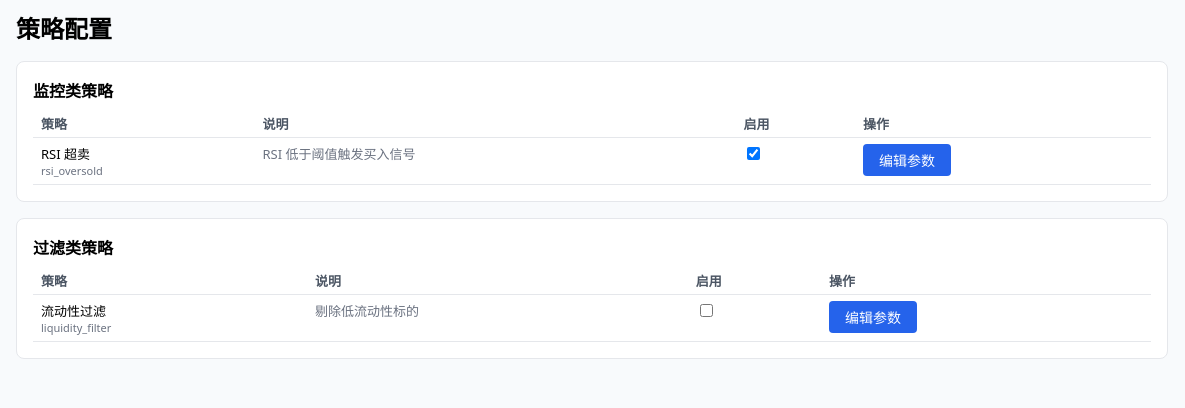
Test: T148 策略配置页（/strategy/config） › 启用开关切换 → PUT /toggle 且列表状态更新
The width and height of the screenshot is (1185, 408).
Expected: the text "流动性过滤" is shown, [41,302,106,320]
Step 1. Click the checkbox named "流动性过滤 启用" → {"x": 706, "y": 311}, box [700,304,713,317]
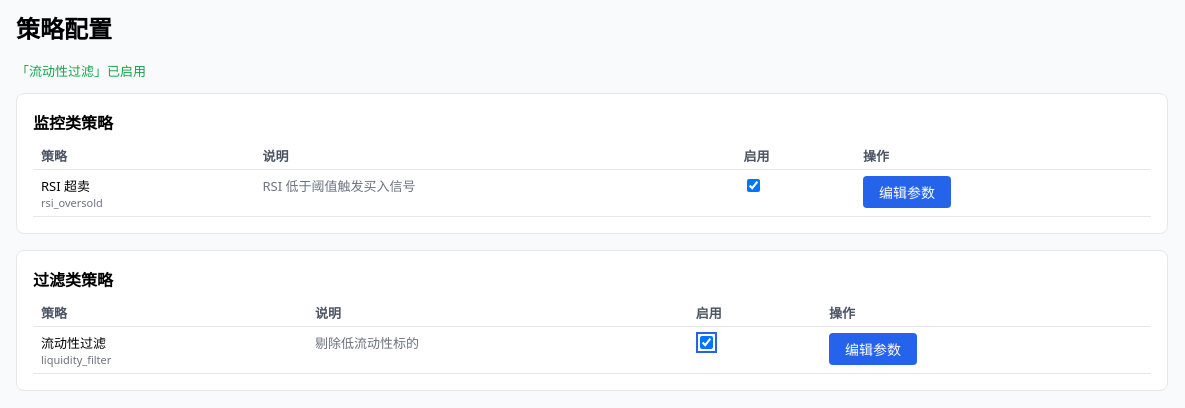
Expected: the text "「流动性过滤」已启用" is shown, [16,62,146,80]
